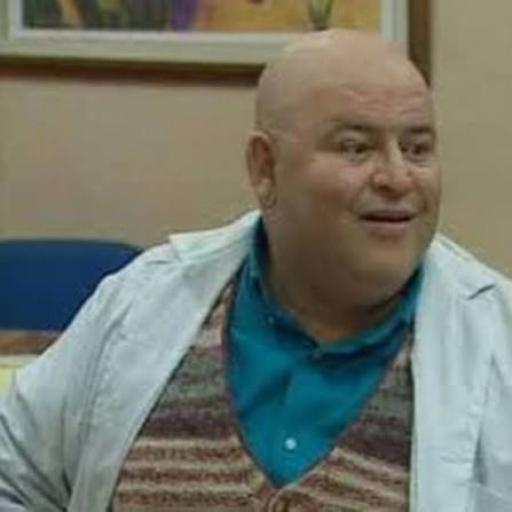sboui: (248, 30, 439, 296)
